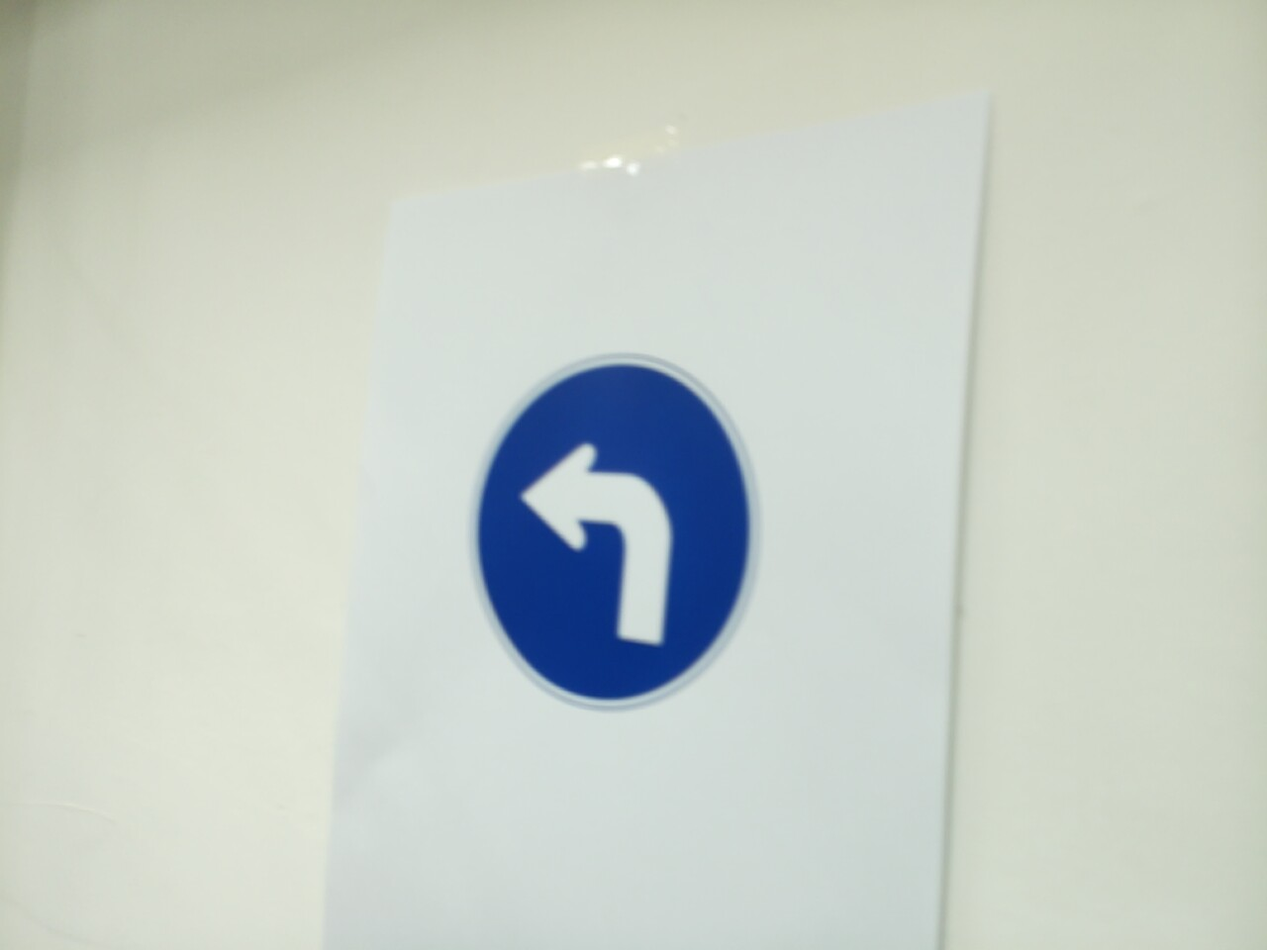left_turn: (469, 354, 759, 711)
